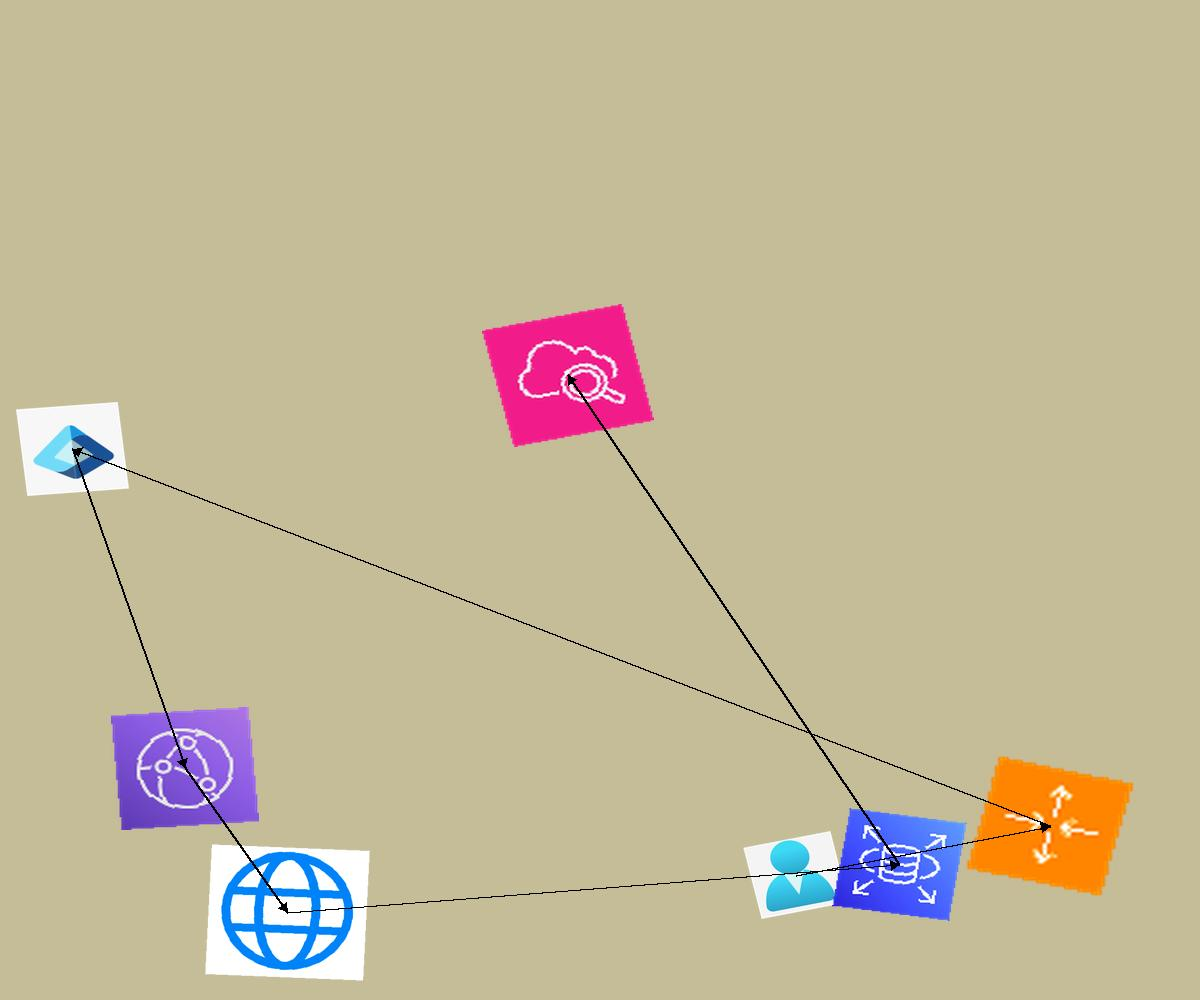AWS-CloudFront: (111, 707, 259, 830)
AWS-CloudWatch: (482, 304, 654, 447)
AWS-RDS: (832, 808, 967, 921)
AWS-Scaling-group: (964, 754, 1136, 898)
Azure_http: (205, 844, 370, 981)
Azure_microsoft_entra: (16, 402, 129, 496)
Azure_users: (743, 831, 849, 919)
